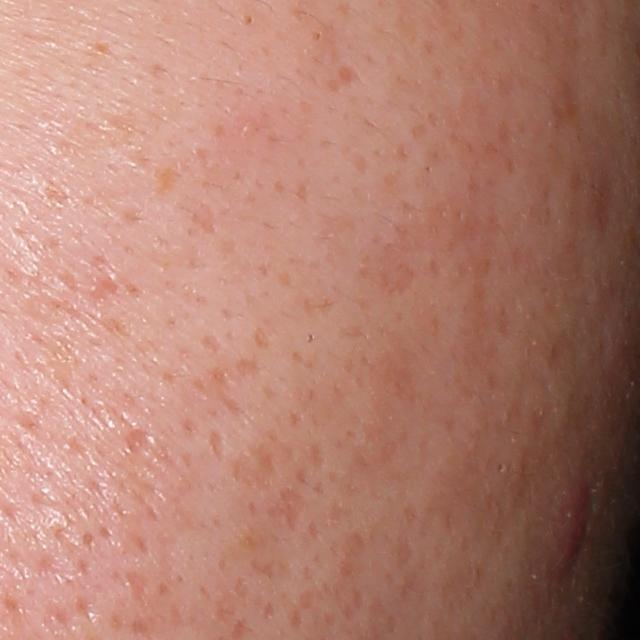atrophic_scar: (267, 489, 306, 533), (121, 425, 158, 461), (337, 63, 362, 88)
comedo: (312, 24, 326, 47), (242, 11, 256, 31)
papule: (543, 485, 592, 579)
